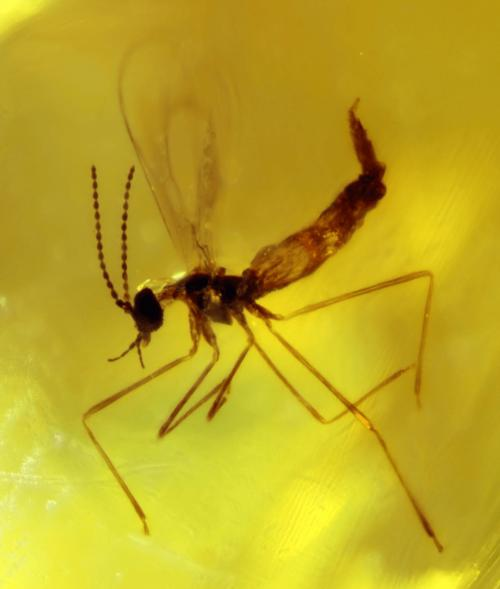Cecidomyiidae: (77, 36, 447, 552)
